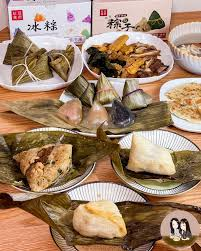zongzi: (13, 144, 72, 191), (73, 200, 126, 238), (128, 134, 175, 174), (11, 48, 52, 84), (3, 29, 39, 64), (48, 45, 73, 80), (122, 80, 152, 109), (67, 75, 94, 106), (95, 73, 119, 104)
